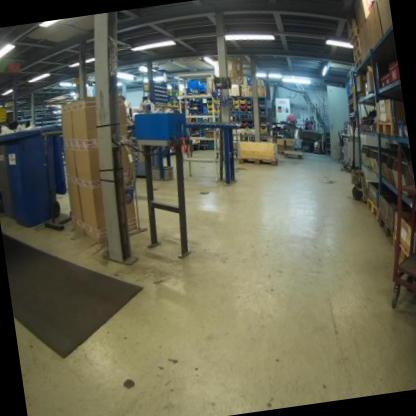pallet: (237, 150, 279, 172), (376, 208, 395, 246), (391, 231, 409, 266), (364, 193, 381, 224), (375, 118, 398, 139), (352, 54, 365, 71), (350, 34, 361, 54), (351, 46, 362, 63)
pallet_truck: (340, 112, 371, 202)
small_load_carrier: (374, 72, 393, 92), (388, 63, 400, 82)
